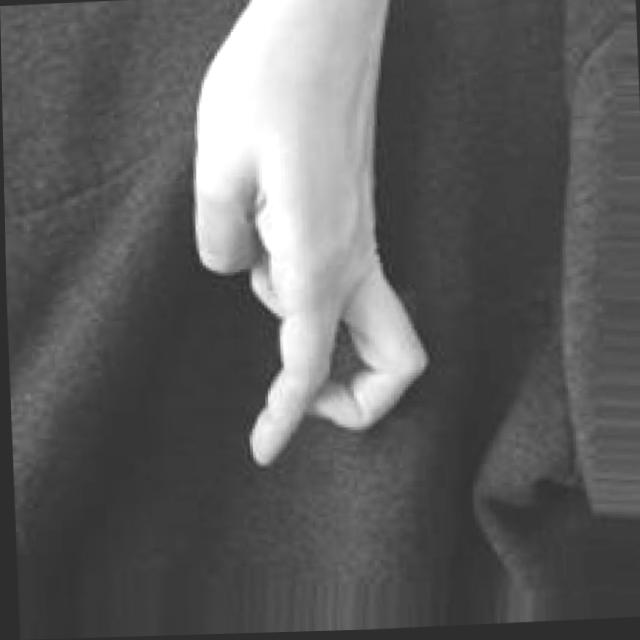P: (176, 0, 450, 480)
